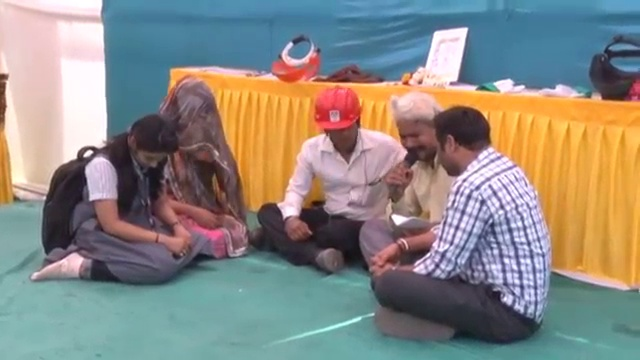helmet: (307, 85, 365, 133)
helmet_off: (436, 105, 495, 179), (164, 76, 222, 146), (123, 112, 178, 177), (394, 95, 443, 165)
helmet_on: (306, 84, 368, 150)
person: (364, 95, 553, 337), (247, 89, 409, 268), (33, 114, 202, 285), (150, 67, 248, 259), (356, 96, 457, 262)
